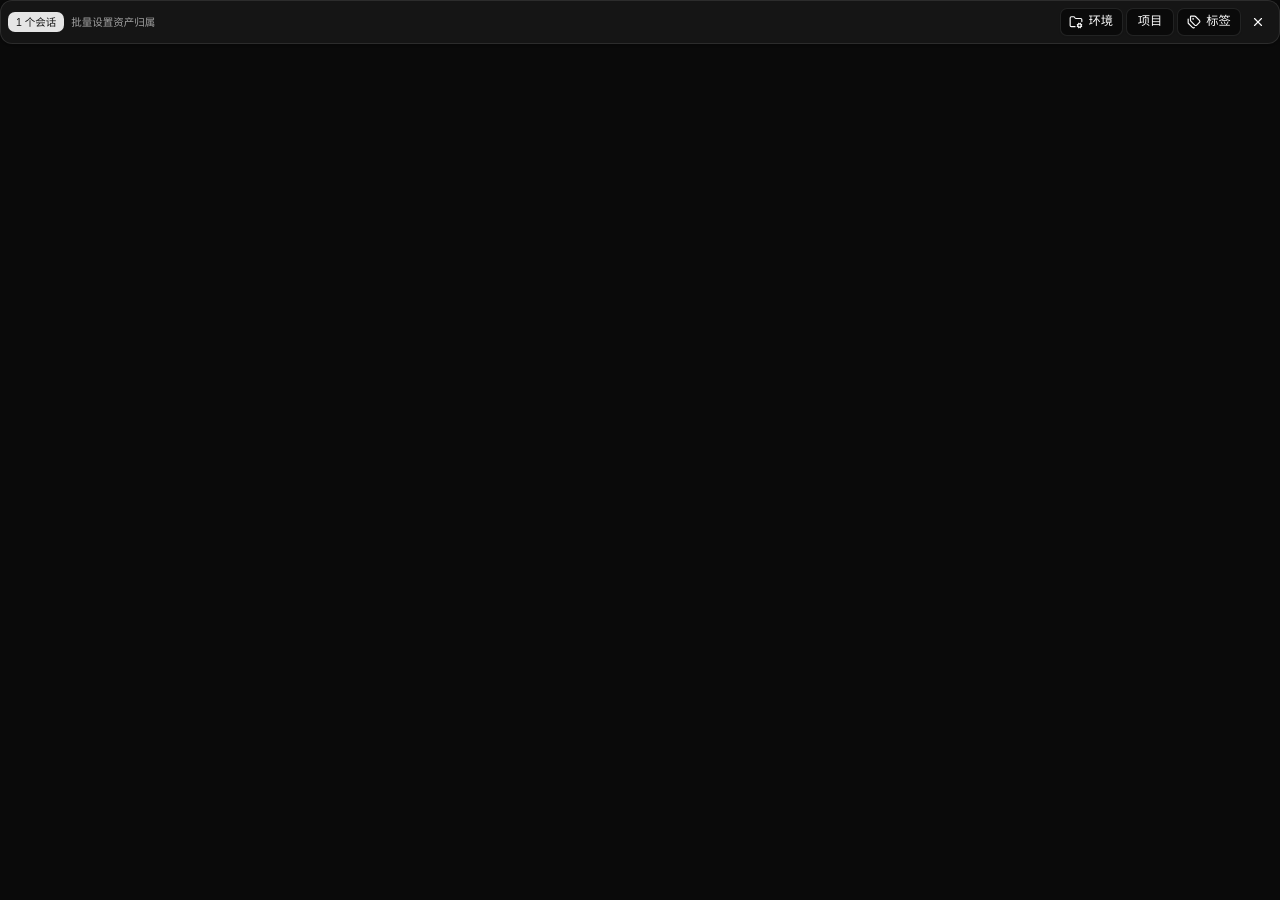
Test: SessionAssetBulkBar › keeps selection and exposes backend errors
The width and height of the screenshot is (1280, 900).
What coordinates should you click on to do the following:
click the button "项目"
I would click on:
 (1150, 22)
Its box is [1126,8,1174,36].
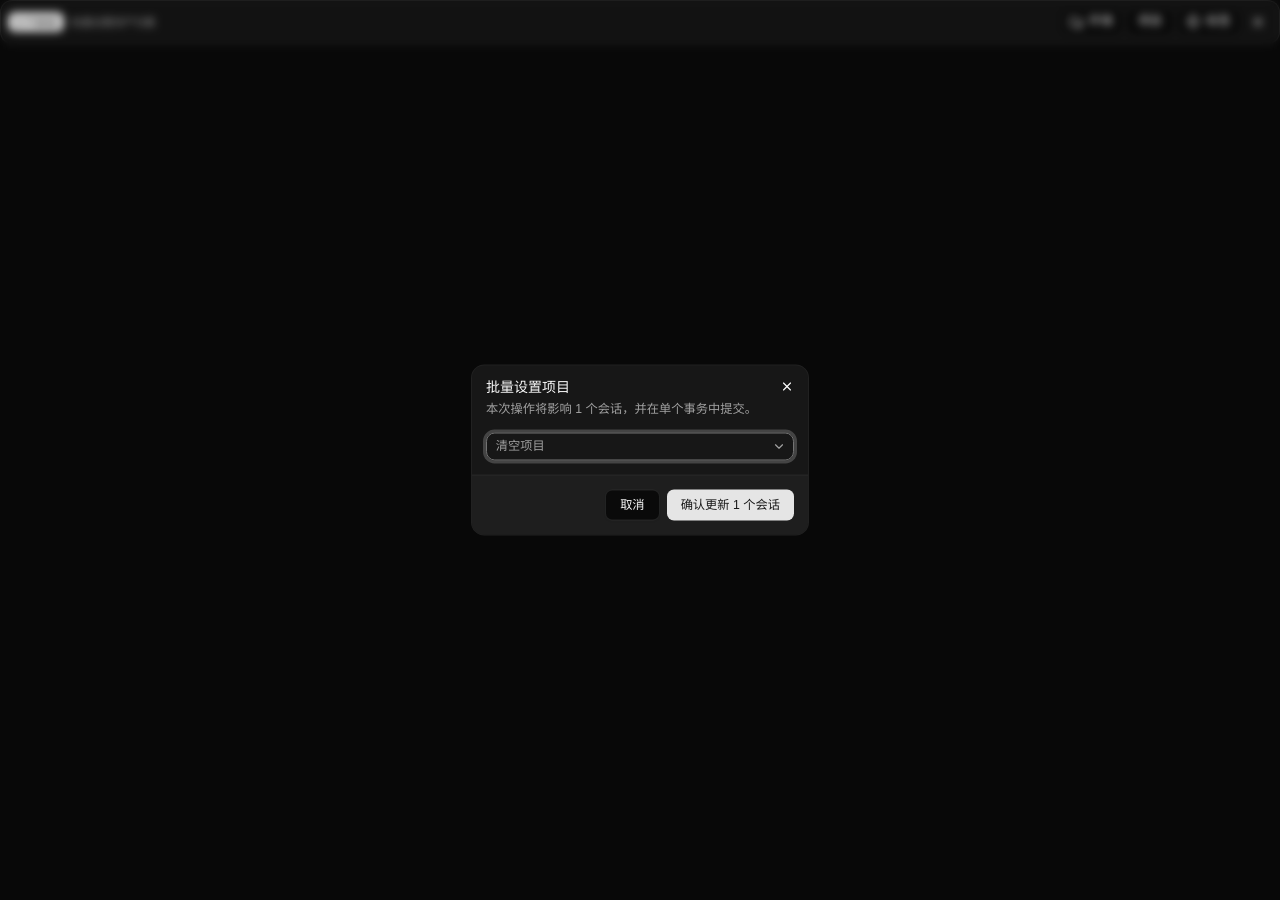
What coordinates should you click on to do the following:
click the button "确认更新 1 个会话"
I would click on:
 (730, 505)
Its box is [667,489,794,520].
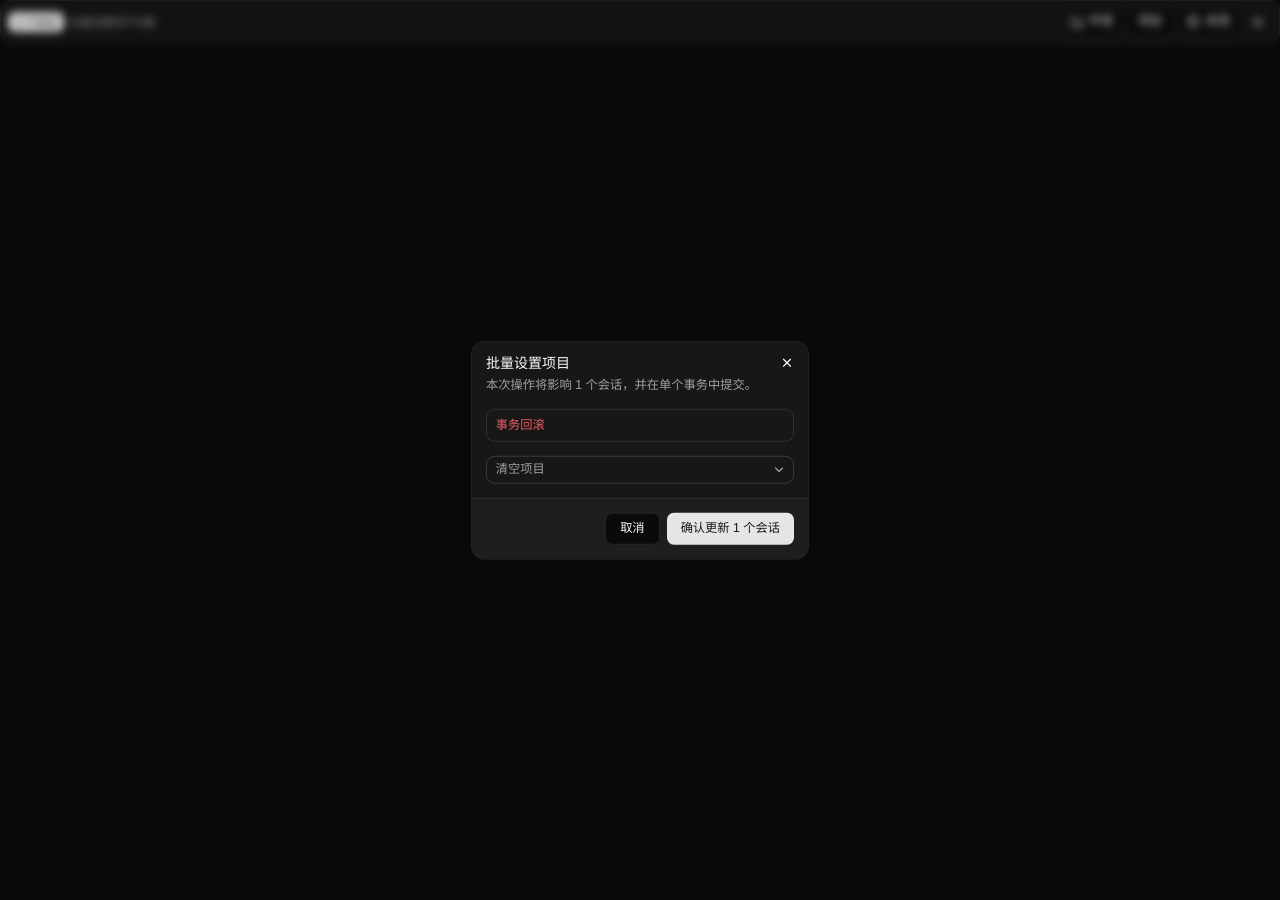
Result: the message reads "事务回滚" at [496,417,545,431]
